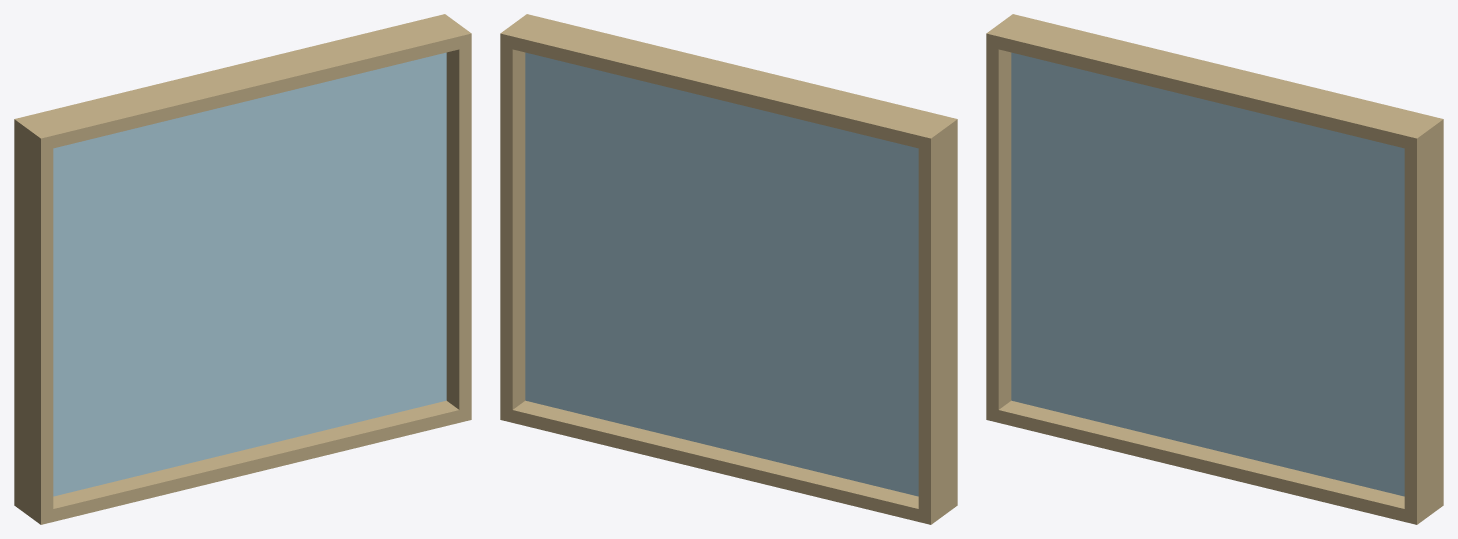
The model's file is janela_140x120.glb.
3 views of the same model, side by side, from view 1: azimuth 30°, elevation 25°; view 2: azimuth 150°, elevation 25°; view 3: azimuth 330°, elevation 25° (orthographic).
Parts seen in each view (by area): view 1: janela_140x120; view 2: janela_140x120; view 3: janela_140x120.
Boxes of the visible parts, x1,y1,x2,y2 form: janela_140x120: (14,14,471,524); janela_140x120: (500,14,957,524); janela_140x120: (986,14,1443,524).
Size of the model in its own units: 1.4 by 1.2 by 0.15.
